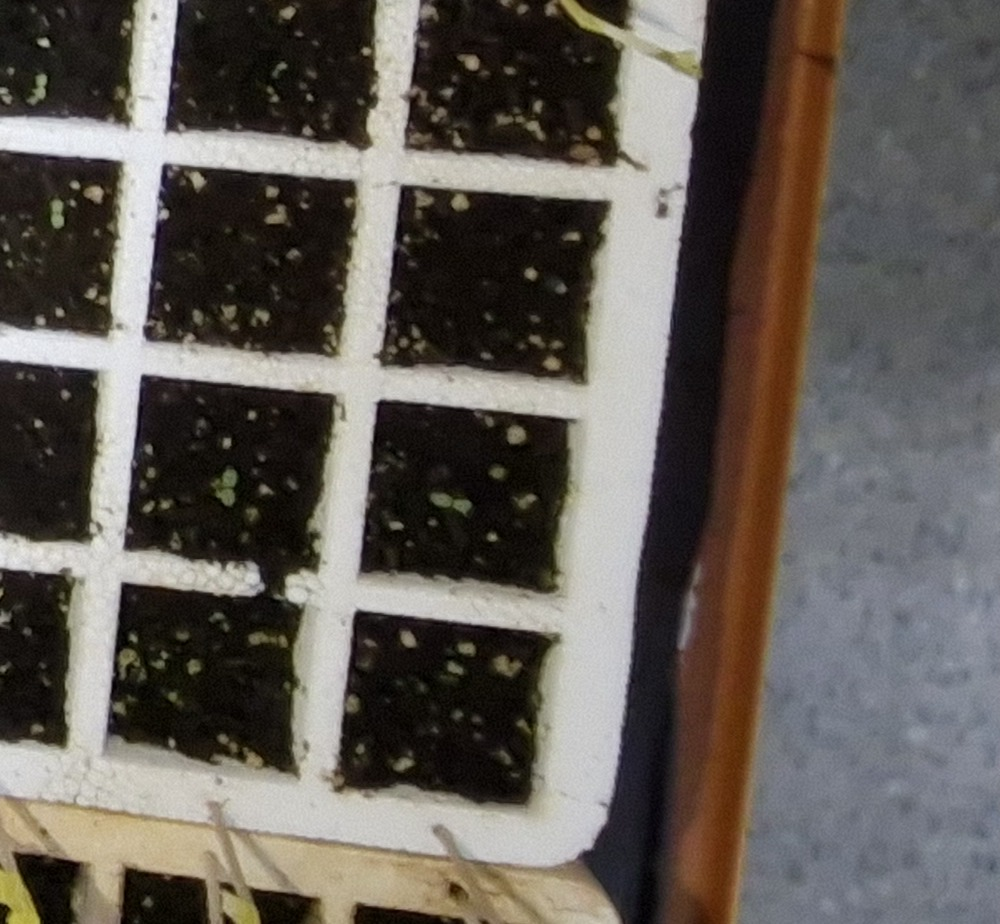Folha: (430, 492, 452, 506), (222, 468, 237, 486), (454, 500, 472, 513), (221, 489, 235, 505), (50, 213, 64, 228), (52, 199, 63, 213)
Germinacao: (431, 494, 472, 513), (217, 470, 237, 506), (51, 199, 66, 229)
